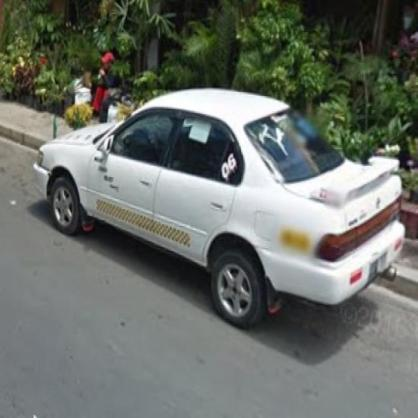car: (35, 85, 406, 330)
